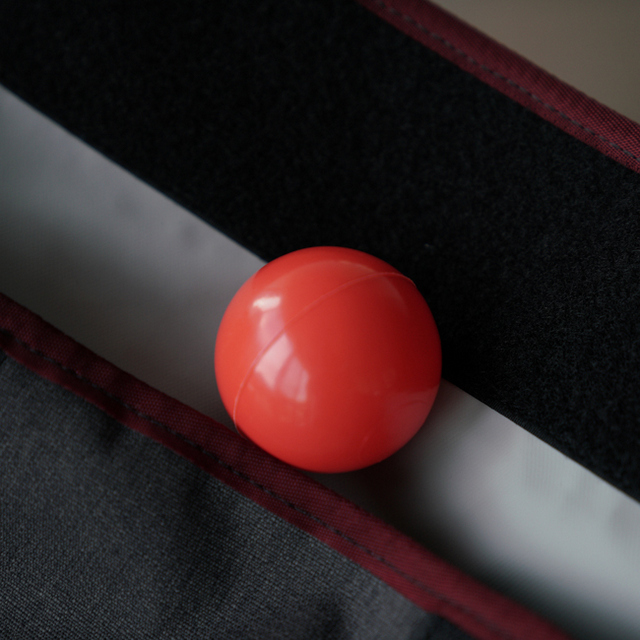Ball: (215, 246, 446, 473)
